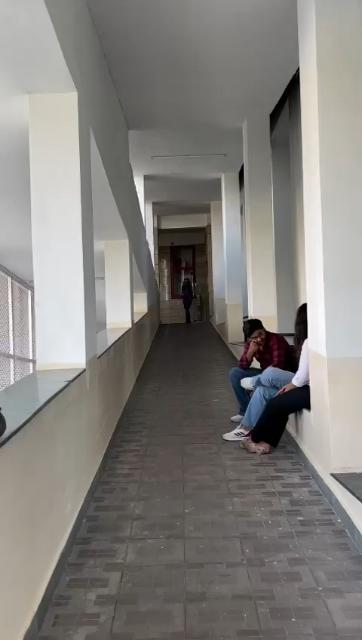floor: (32, 326, 359, 640)
moving-obj: (230, 307, 320, 458)
wall: (0, 308, 155, 640), (314, 1, 361, 460), (36, 21, 80, 363), (99, 88, 131, 318), (237, 120, 273, 314), (214, 151, 234, 293)
